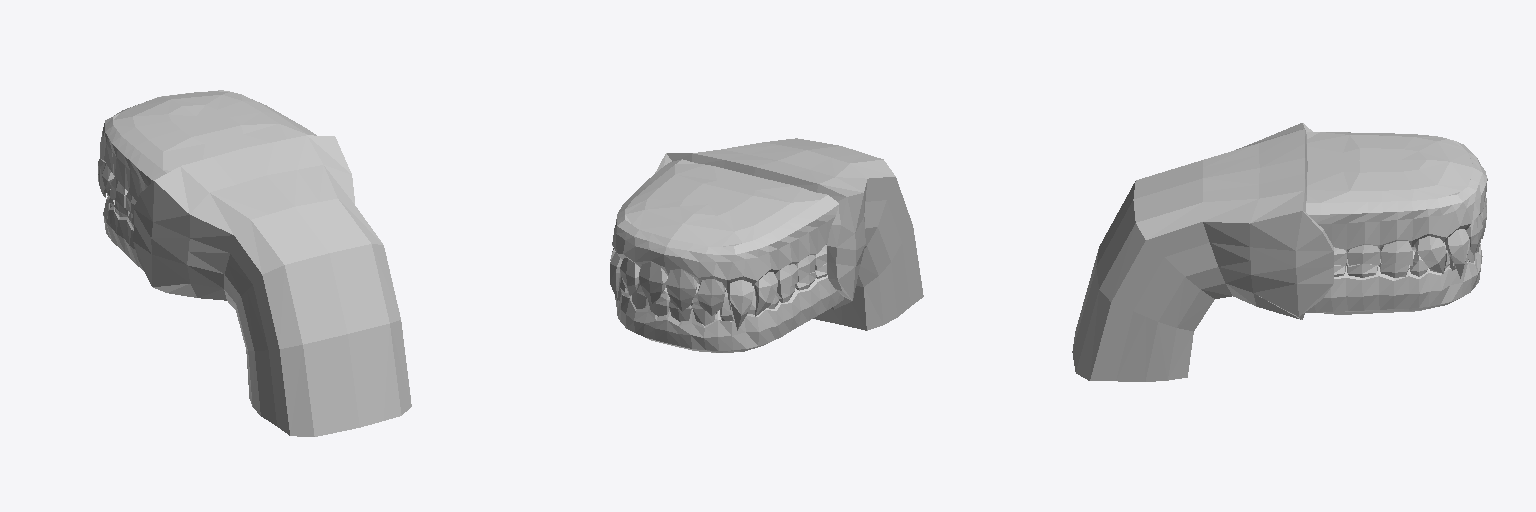
The model's file is Werewolf Denture.obj.
3 renders of one model, left to right at view 1: azimuth 30°, elevation 25°; view 2: azimuth 150°, elevation 25°; view 3: azimuth 270°, elevation 25°, orthographic.
Parts seen in each view (by area): view 1: Werewolf_-_Throat, Werewolf_-_Upper_Jaw, Werewolf_-_Lower_Jaw; view 2: Werewolf_-_Upper_Jaw, Werewolf_-_Throat, Werewolf_-_Lower_Jaw; view 3: Werewolf_-_Throat, Werewolf_-_Upper_Jaw, Werewolf_-_Lower_Jaw.
Part boxes in pixels (left/top/right/bottom): Werewolf_-_Throat: left=133, top=135, right=411, bottom=436; Werewolf_-_Upper_Jaw: left=98, top=90, right=316, bottom=214; Werewolf_-_Lower_Jaw: left=103, top=189, right=143, bottom=270; Werewolf_-_Upper_Jaw: left=610, top=159, right=838, bottom=330; Werewolf_-_Throat: left=655, top=138, right=923, bottom=330; Werewolf_-_Lower_Jaw: left=615, top=263, right=843, bottom=352; Werewolf_-_Throat: left=1072, top=123, right=1333, bottom=381; Werewolf_-_Upper_Jaw: left=1306, top=132, right=1487, bottom=278; Werewolf_-_Lower_Jaw: left=1305, top=238, right=1482, bottom=314.
Bounding box in the file's own units: 0.1085 × 0.1057 × 0.2023.